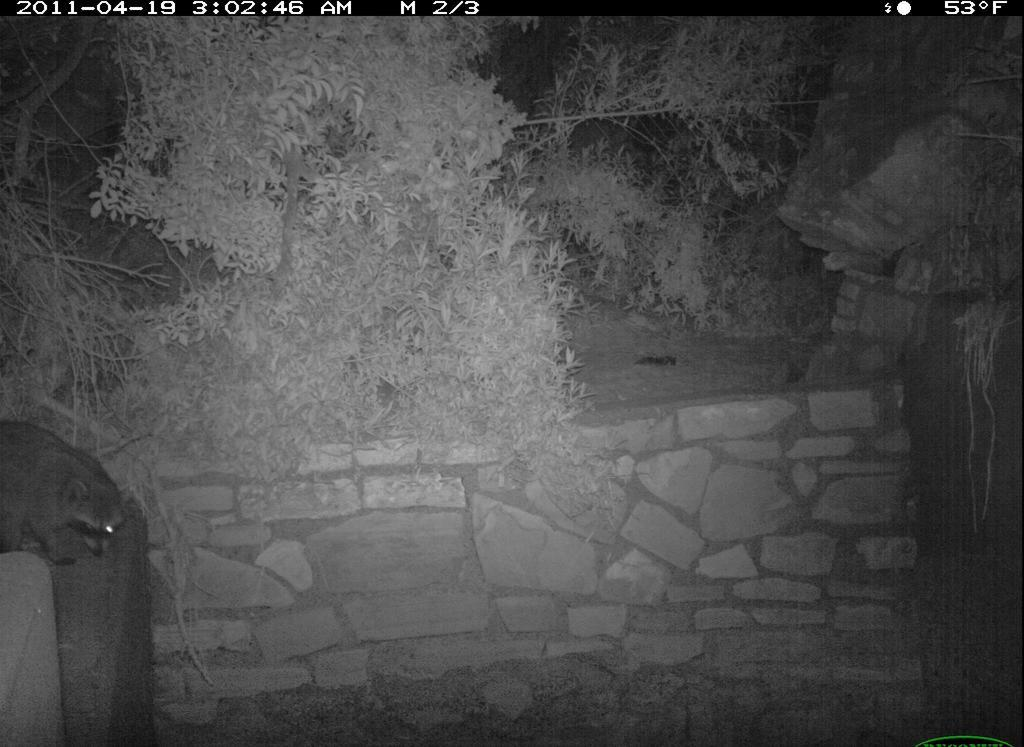raccoon: (1, 419, 131, 577)
